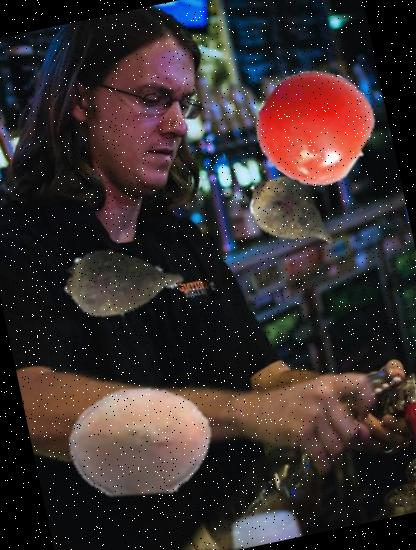Beetroot: (49, 208, 196, 356), (231, 154, 350, 274)
Hazelnut: (52, 352, 229, 528)
Tomato: (247, 59, 382, 194)
